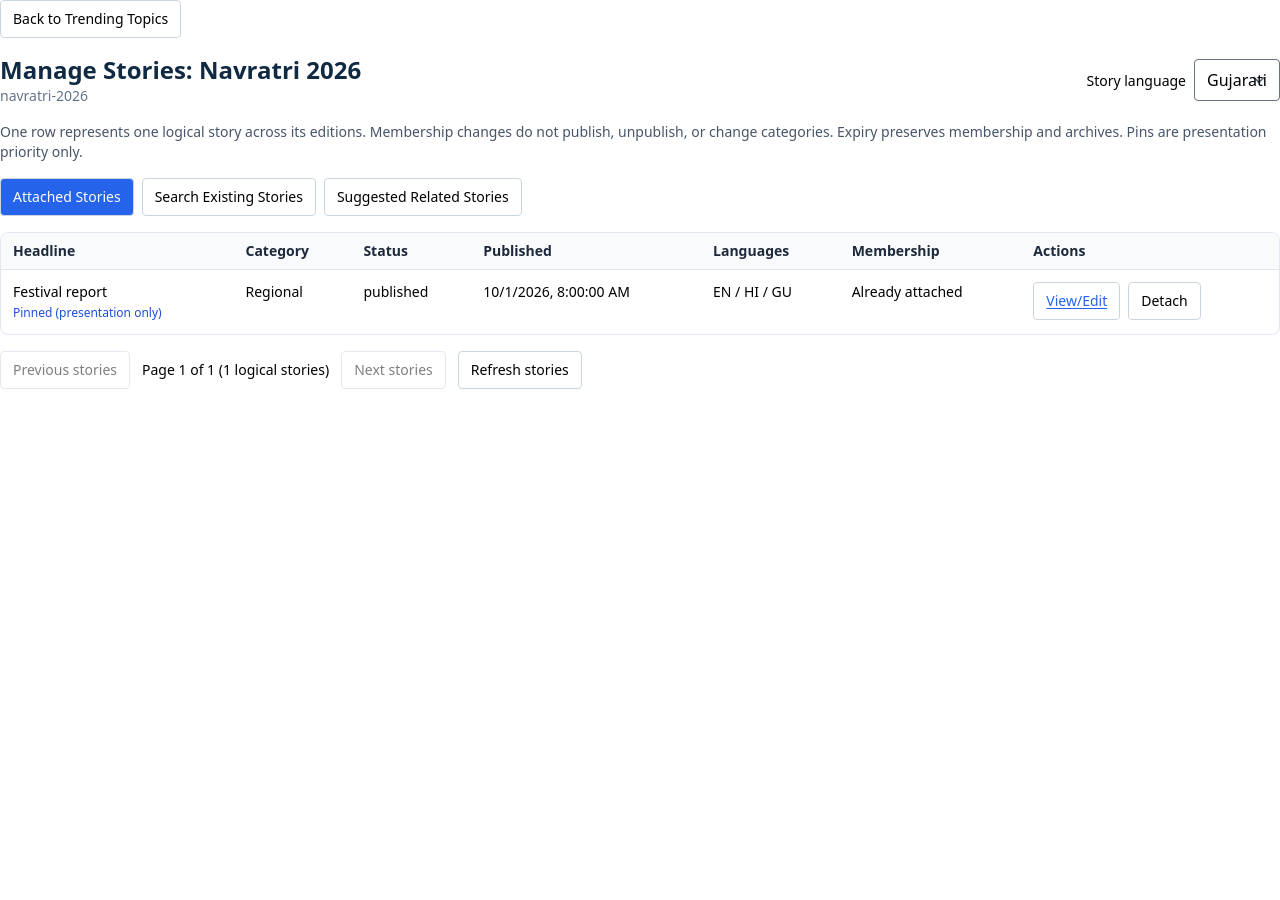
Test: Trending Topic attached/search/candidate UI › requires confirmation and detaches only this topic using the logical ID
Click the button with aria-label "Detach Festival report".
click(1164, 301)  # box [1128,282,1201,320]
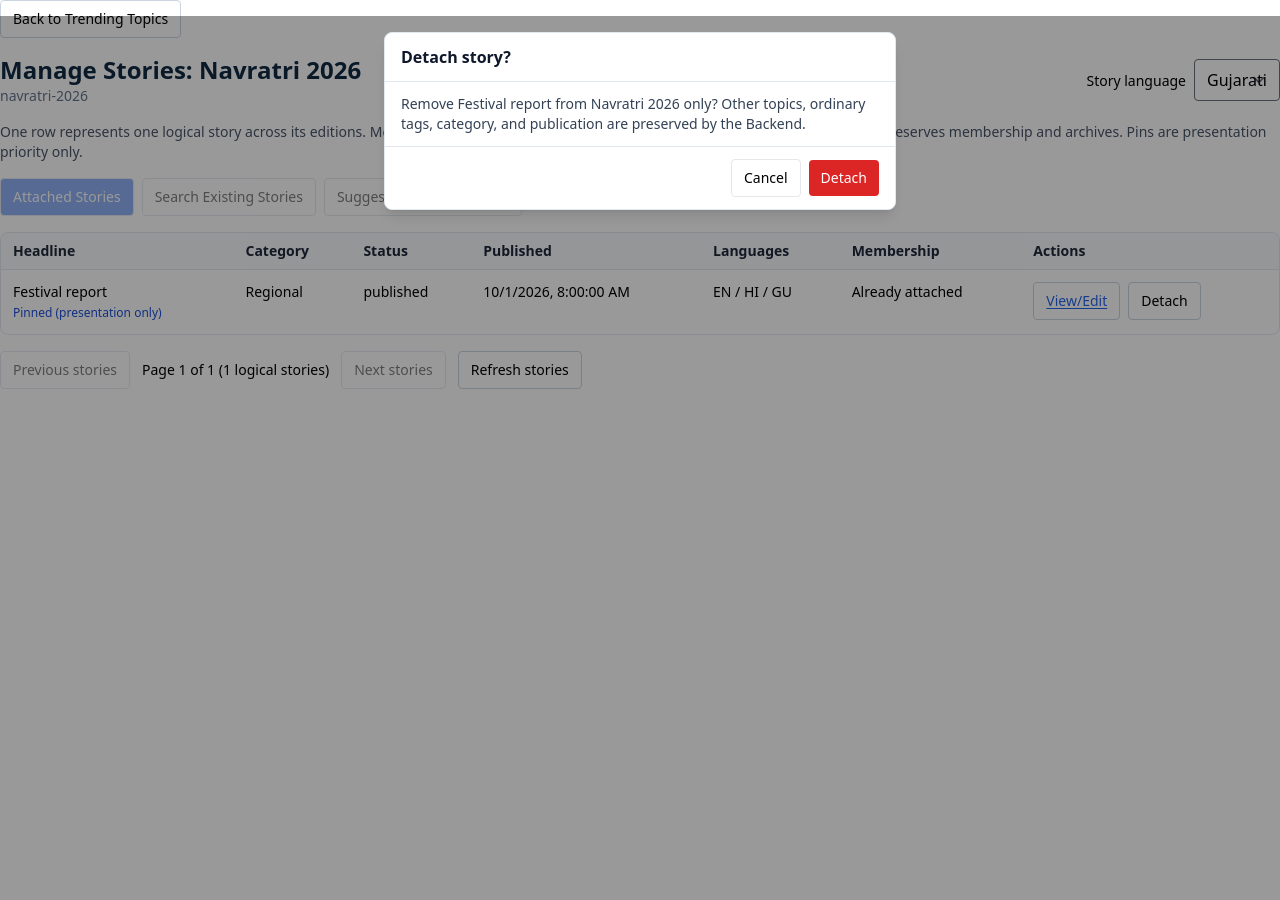
Click the button "Detach".
click(844, 178)  # box [809,160,879,196]
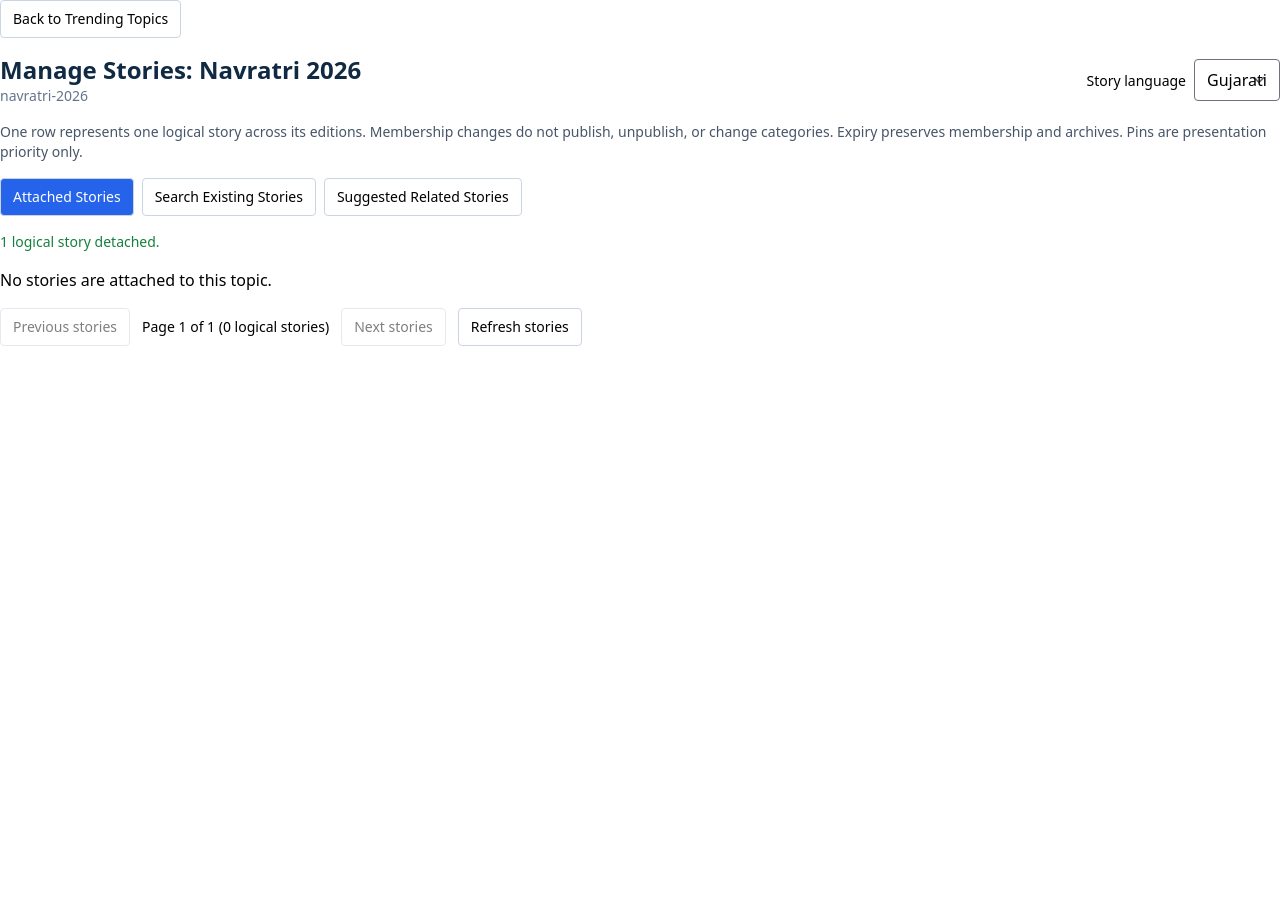
Now the text "1 logical story detached." is shown, box [0,232,160,251]
Now the text "No stories are attached to this topic." is shown, box [0,269,272,291]
